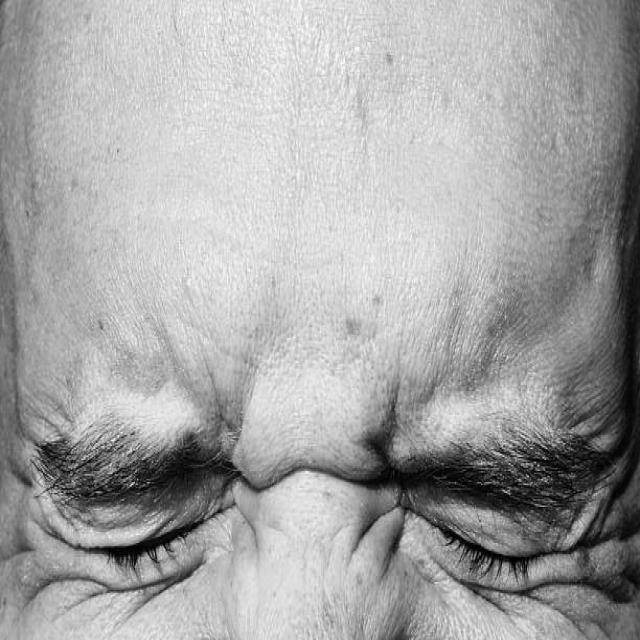real: (25, 320, 612, 572)
